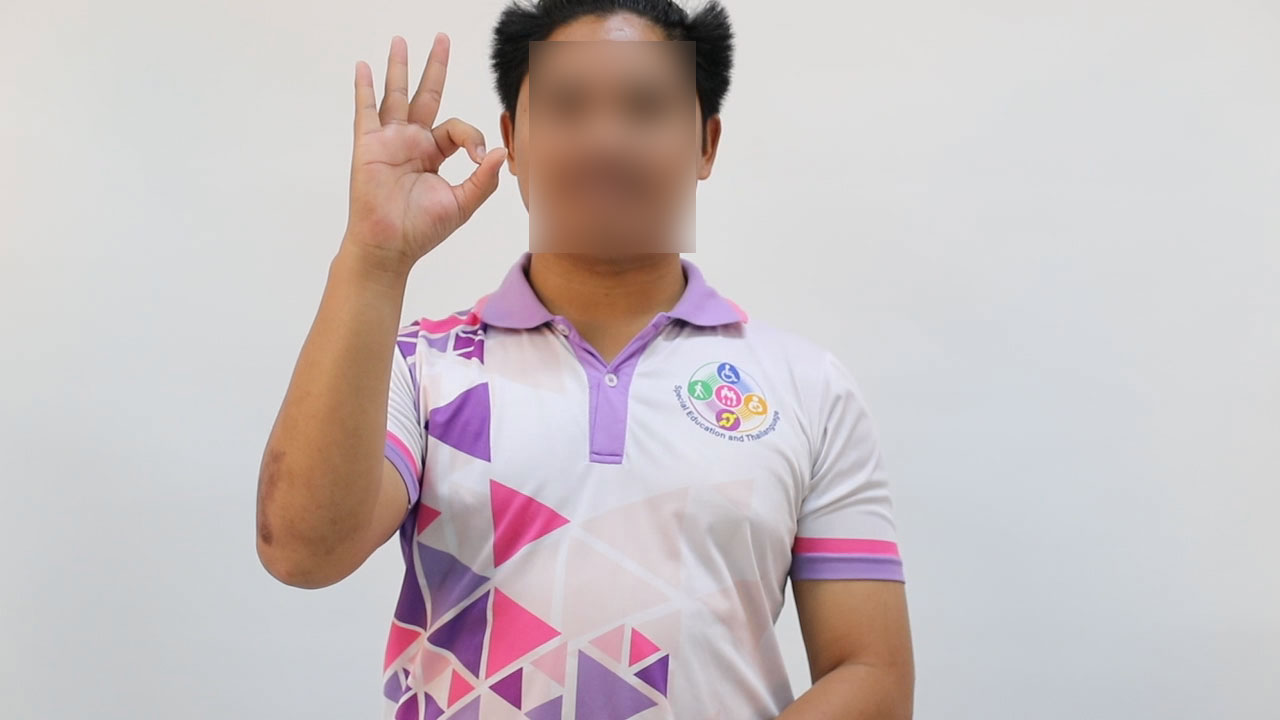for: (309, 21, 518, 293)
